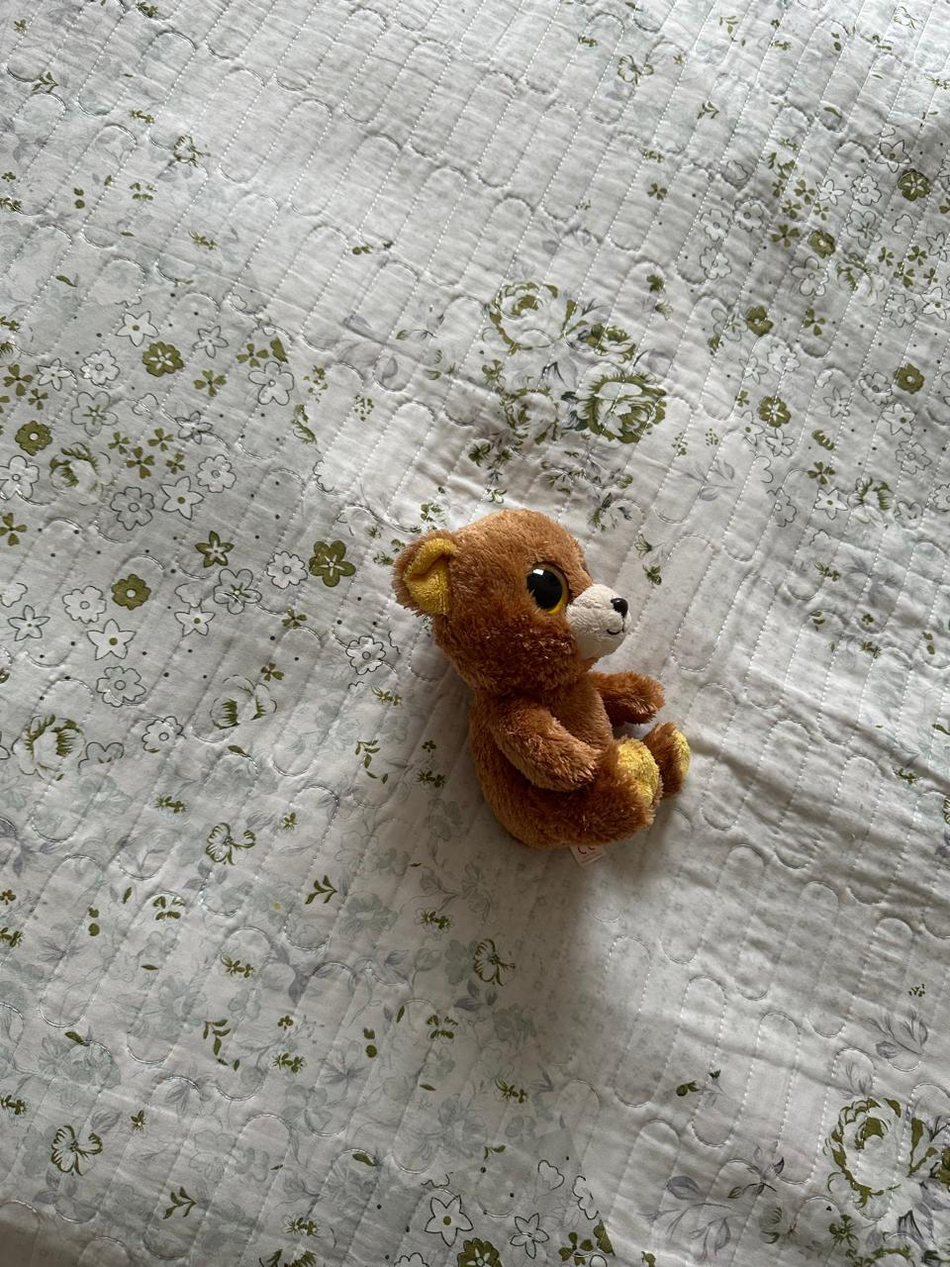peluche_sebastian: (386, 505, 690, 856)
